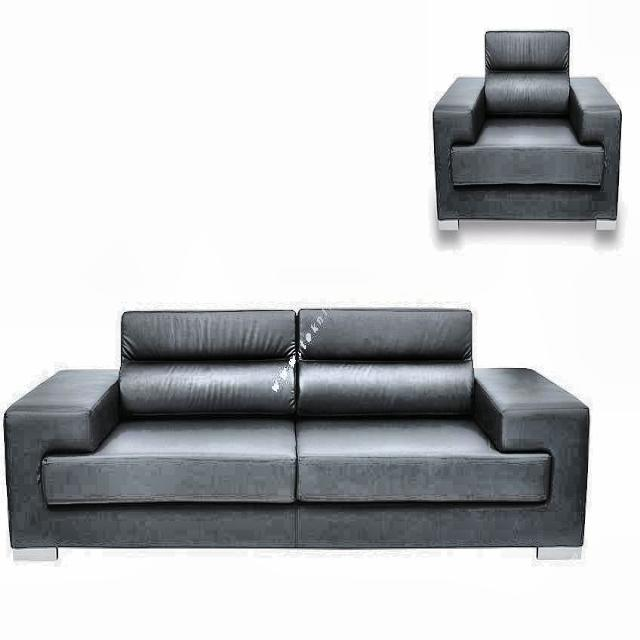sofa: (3, 305, 590, 560), (432, 27, 622, 232)
